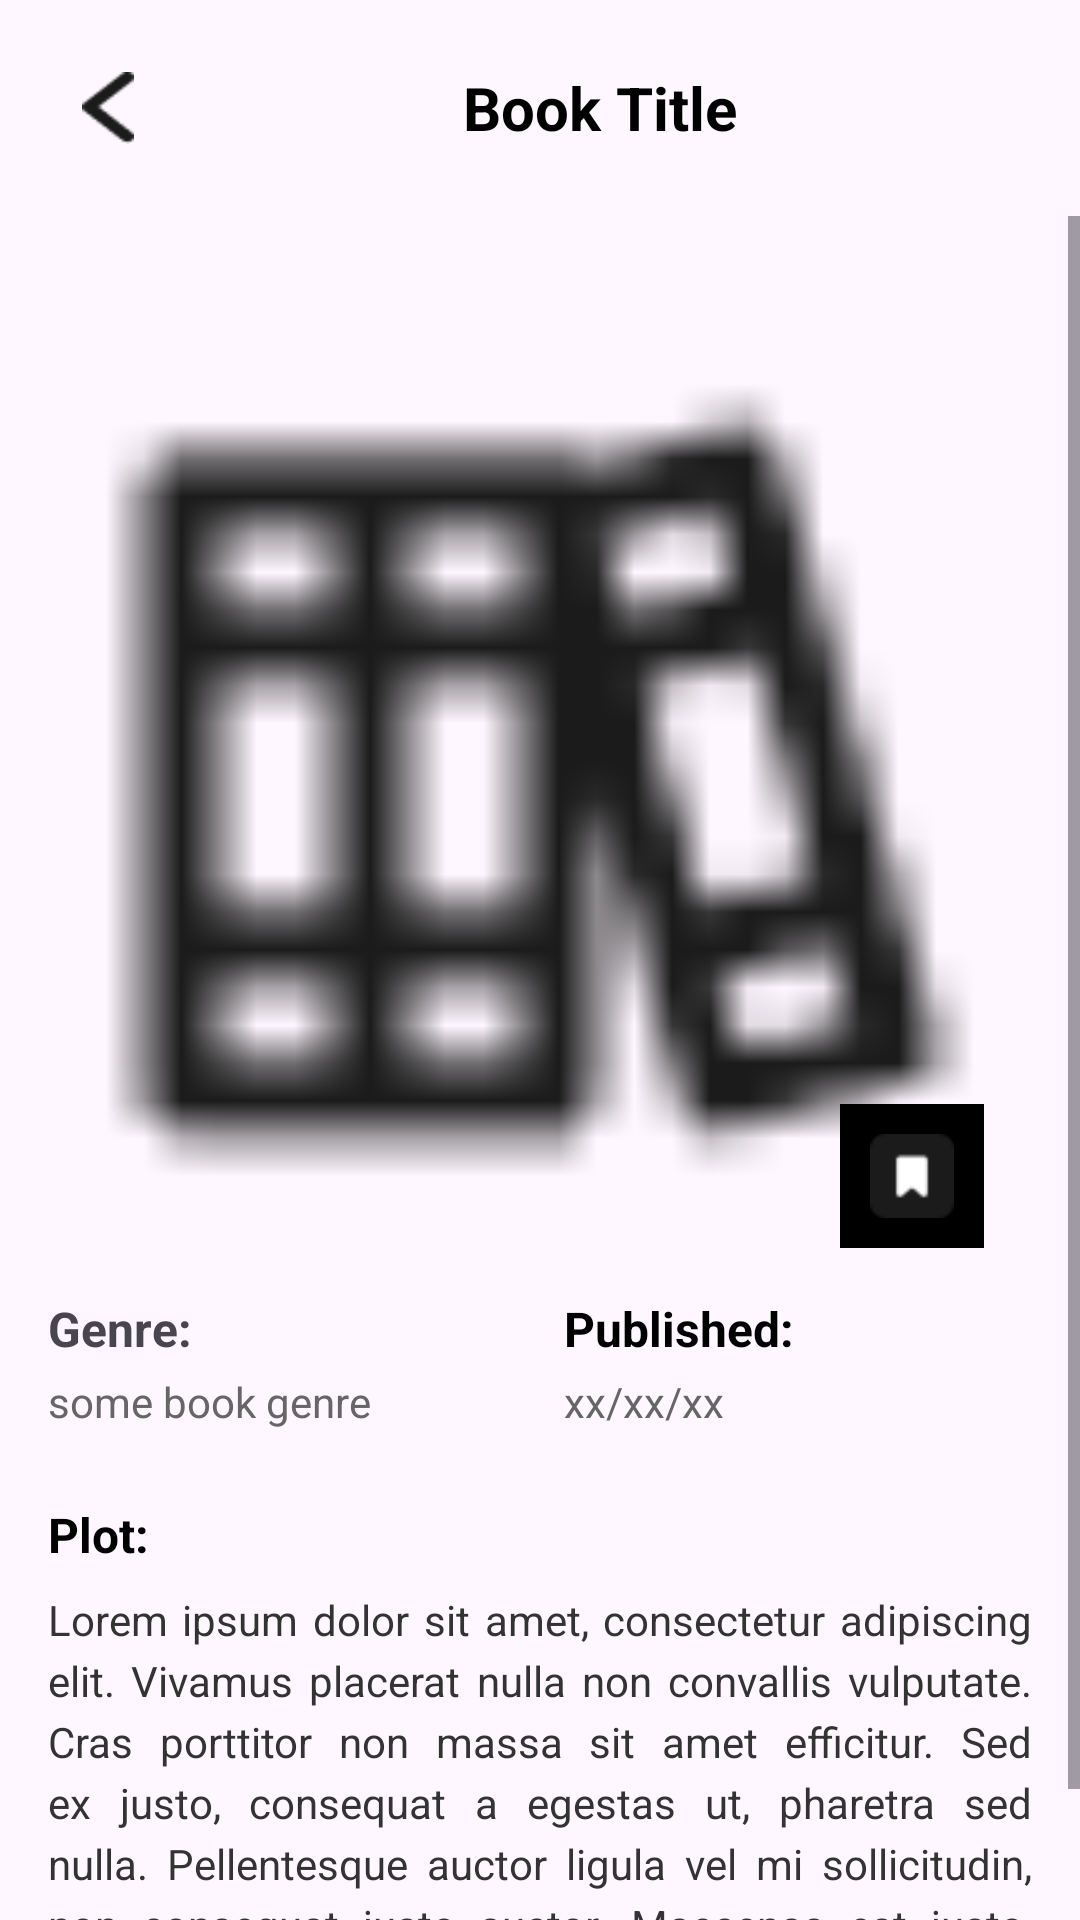

Screen size 1080px x 1920px. Icon name, then its center in pixels as (x=x, y=y):
Back: (x=108, y=107)
Bookmark: (x=912, y=1176)
